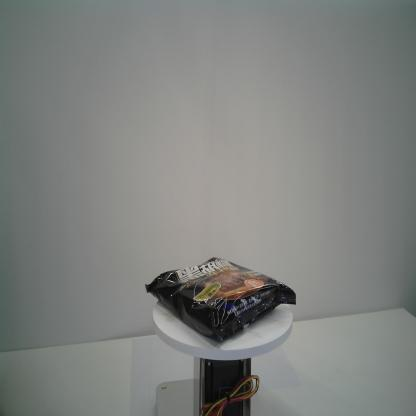Instant Noodles: (144, 256, 298, 346)
